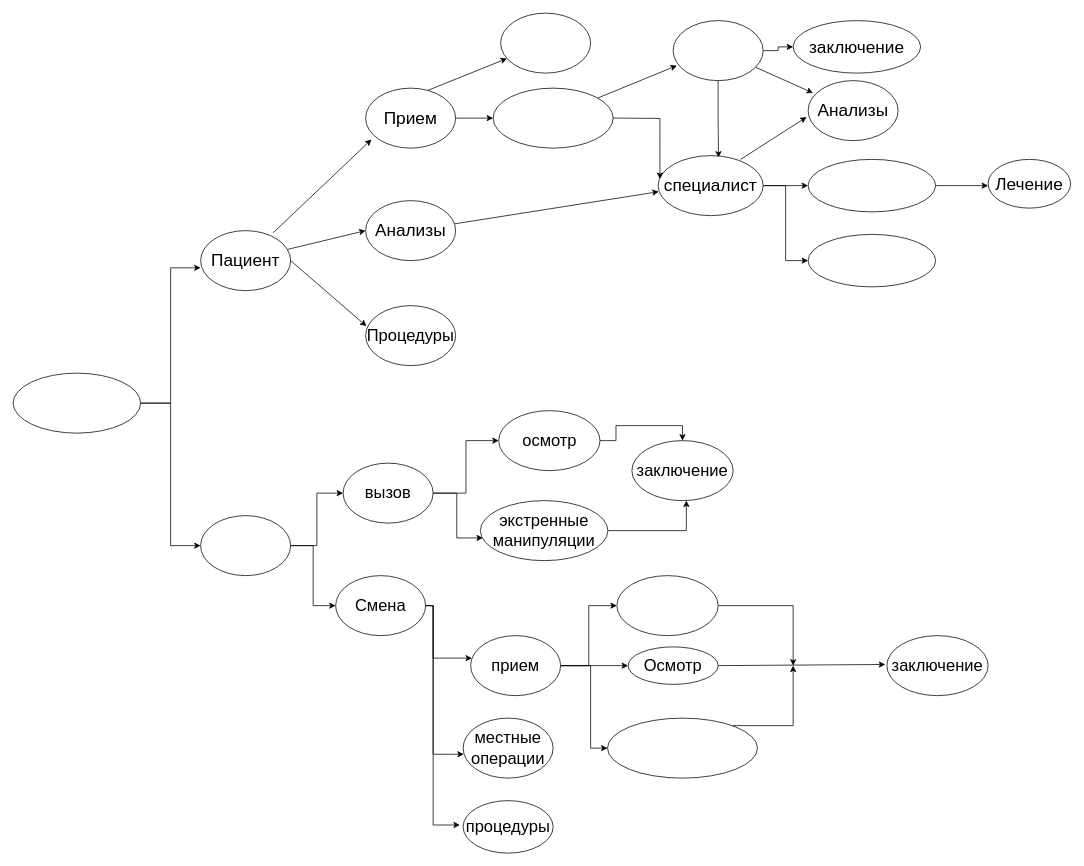
The diagram is 1084 pixels wide and 866 high, and some of its shapes have lost their labels. Here are the shapes that lost their labels. From the top down, the centre of each, then its label:
(x=545, y=42): Справки
(x=717, y=50): Терапевт
(x=552, y=117): Консультация
(x=871, y=185): обследования
(x=871, y=260): Назначения
(x=76, y=402): Поликлиника
(x=245, y=545): Врач
(x=667, y=605): назначение анализов
(x=682, y=747): заполнение истории болезни
